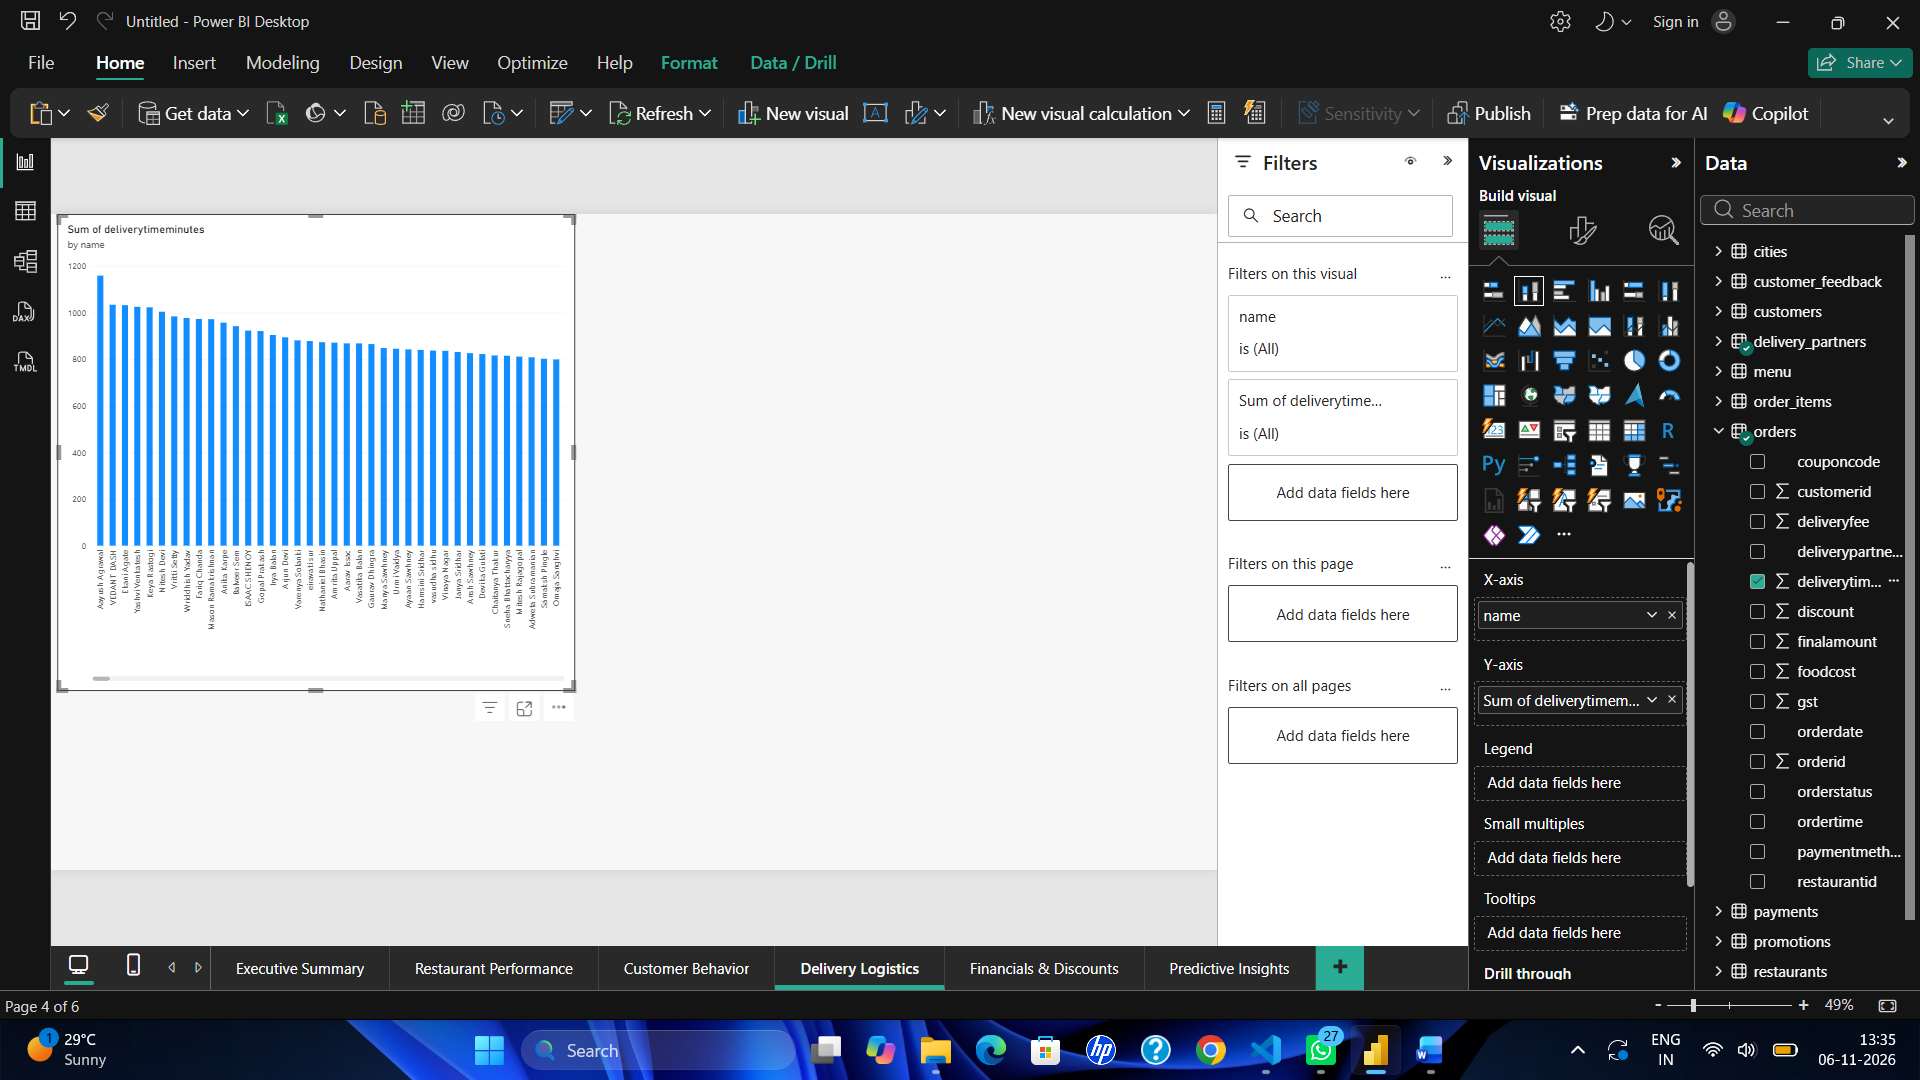

Layout of this report page (visuals, bound fields, positions):
{"tool":"powerbi","page":{"name":"Delivery Logistics","canvas":[1920,1080],"ordinal":3},"visuals":[{"type":"columnChart","fields":{"Category":["delivery_partners.name"],"Y":["Sum(orders.deliverytimeminutes)"]},"box":[10.3,0,852.1,786.3],"z":0}]}

Visuals, with their boxes on the page's 1920x1080 design canvas (x1, y1, x2, y2). These are canvas units, not pixel positions in the 1920x1080 screenshot, which may show the page scaled, cropped or inside an application window:
columnChart - delivery_partners.name x Sum(orders.deliverytimeminutes): bbox=[10, 0, 862, 786]
